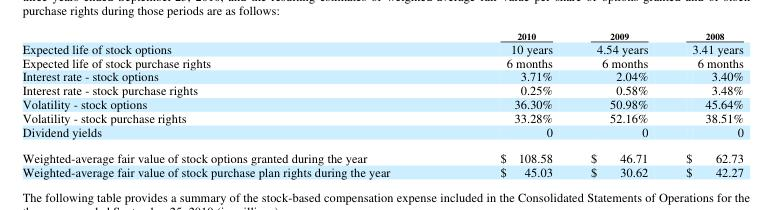table: (21, 28, 742, 179)
table column: (21, 28, 444, 179), (444, 28, 570, 179), (570, 28, 666, 179), (666, 28, 742, 179)
table column header: (21, 28, 742, 68)
table row: (21, 28, 742, 68), (21, 124, 742, 144), (21, 144, 742, 163), (21, 163, 742, 179), (21, 68, 742, 82), (21, 82, 742, 96), (21, 96, 742, 110), (21, 110, 742, 124)
